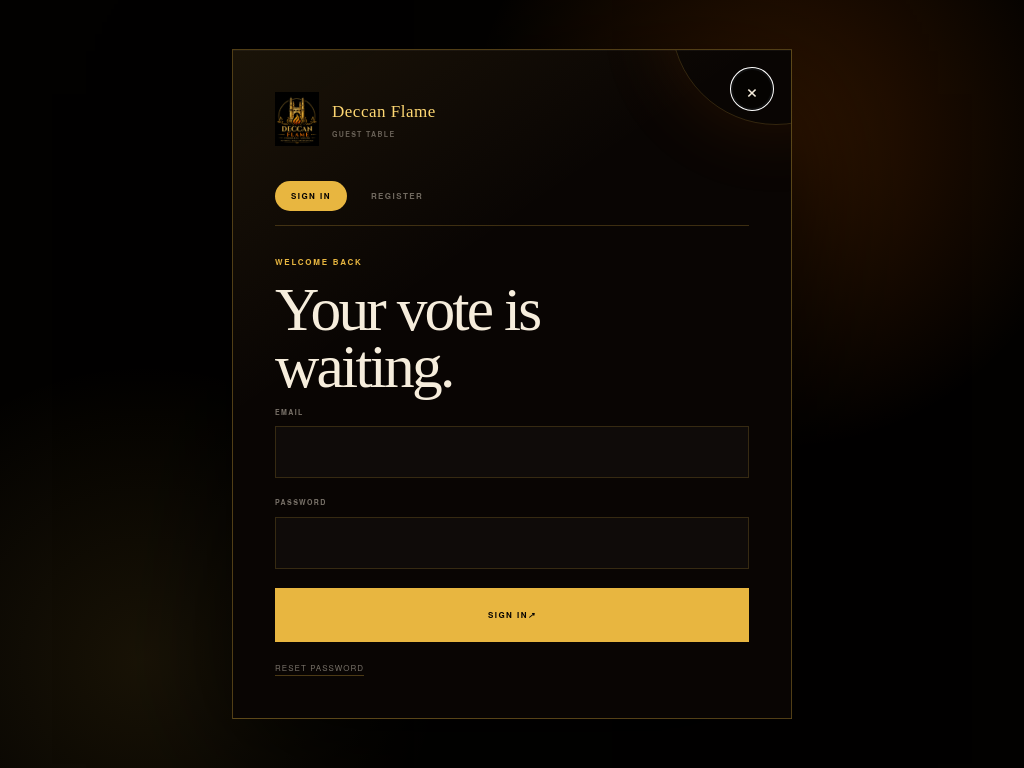
Test case: account dialog › requests a password reset using the supplied email
The width and height of the screenshot is (1024, 768).
Type "guest@example.com" into the field labelled "Email".
click(512, 452); type("guest@example.com")  # box [275, 426, 749, 478]
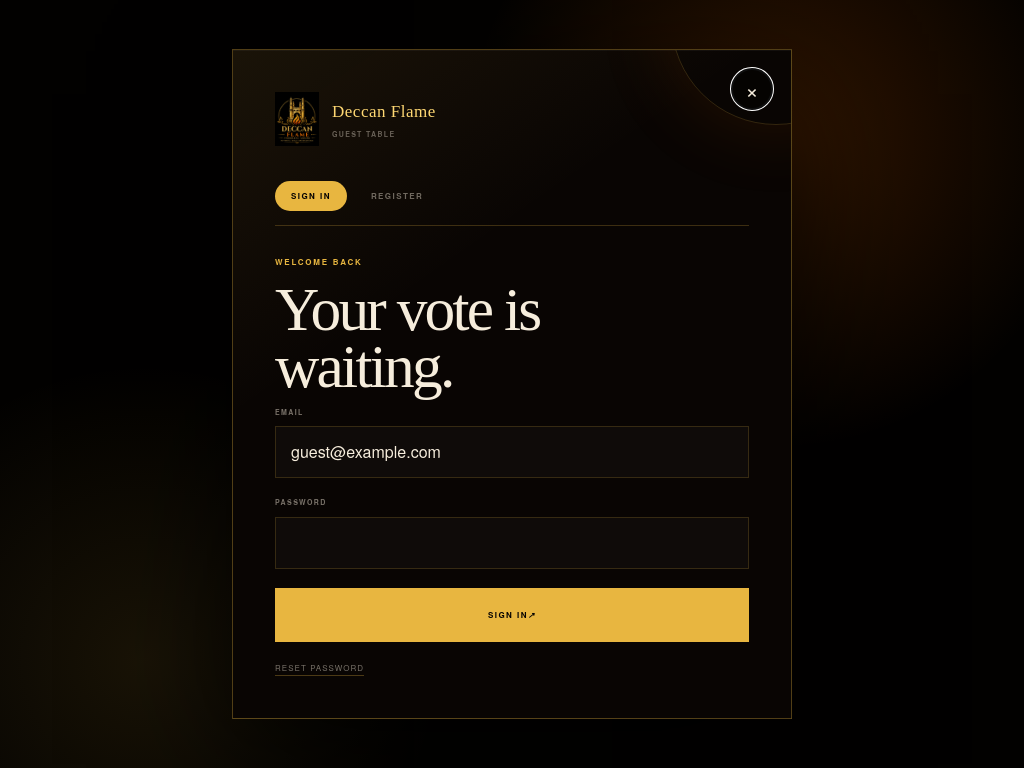
Click the button "Reset password".
click(320, 668)  # box [275, 660, 364, 676]
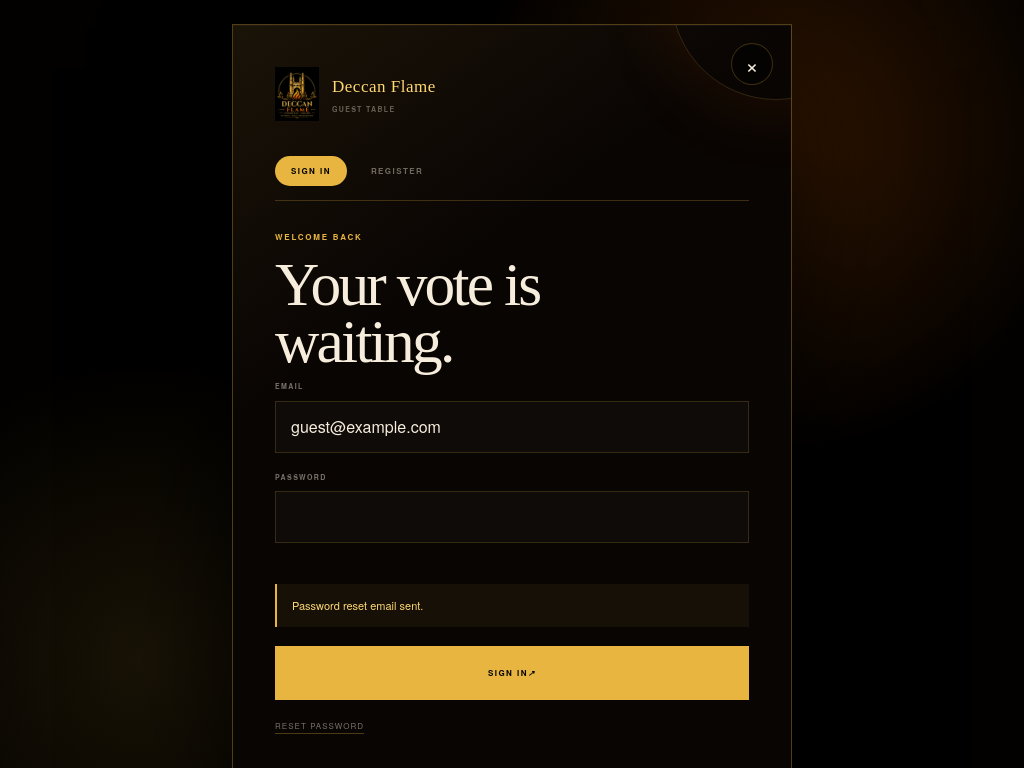
Result: the message shows "Password reset email sent" at [292, 597, 423, 613]
